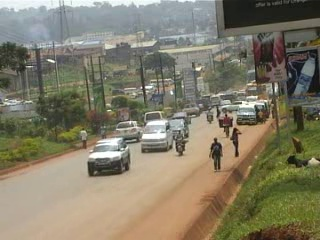Car: (85, 135, 131, 177), (139, 116, 173, 154), (114, 118, 143, 145), (169, 117, 191, 138), (219, 98, 248, 113), (170, 109, 192, 125)
Motorcycle: (173, 128, 188, 158), (204, 105, 214, 125)
